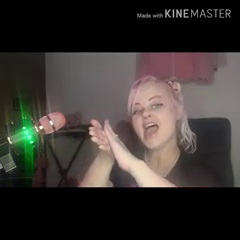H: (86, 118, 138, 172)
